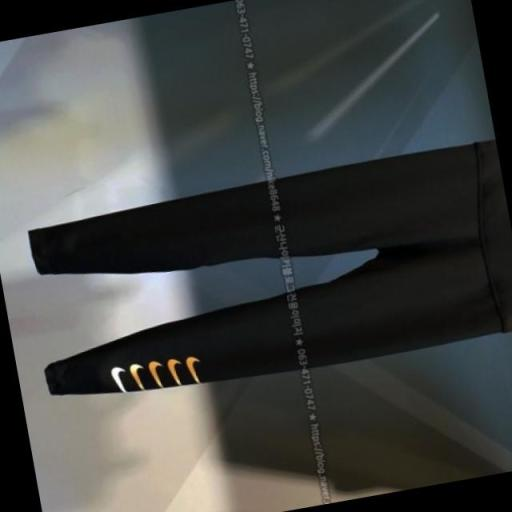Nike: (181, 347, 206, 385)
